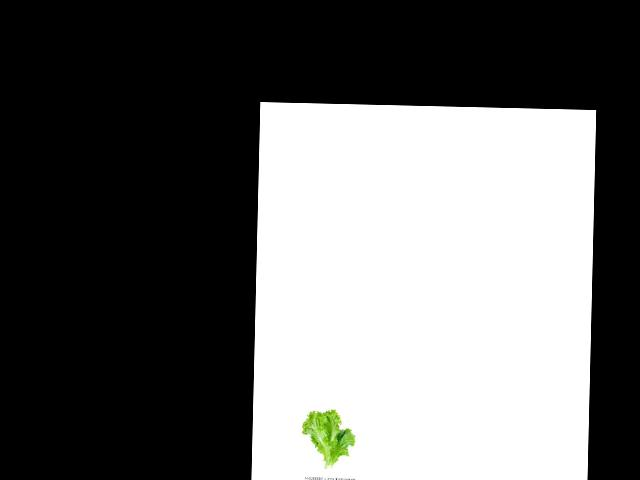lettuce: (301, 407, 357, 473)
